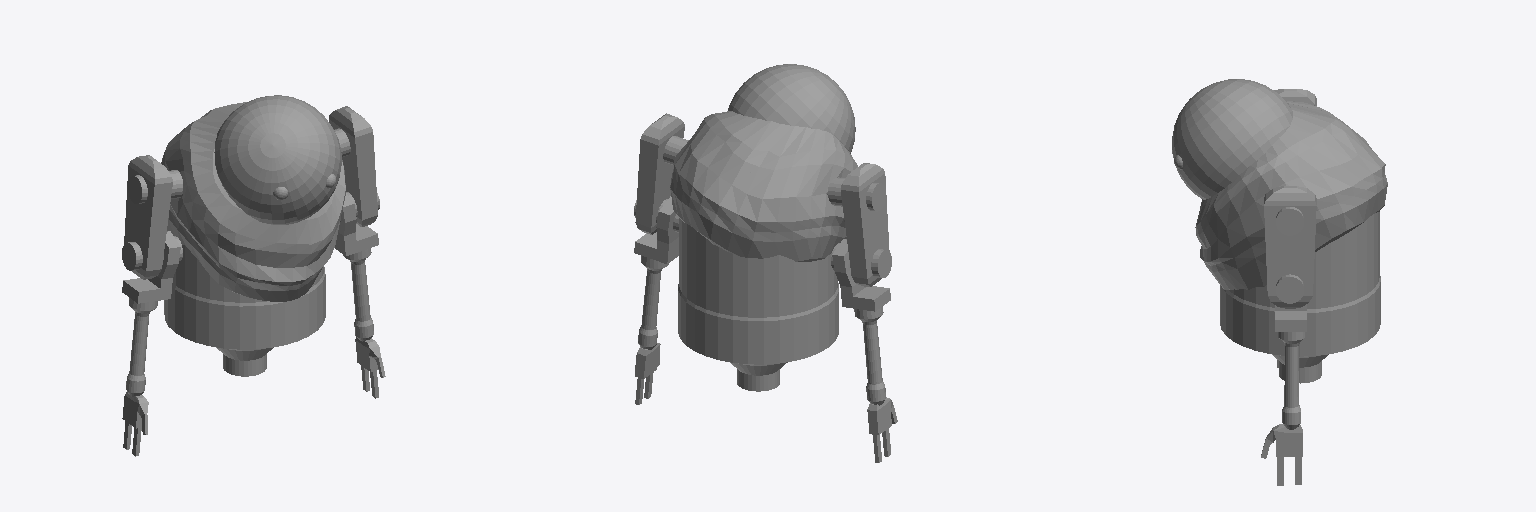
The model's file is Player.obj.
3 views of the same model, side by side, from view 1: azimuth 30°, elevation 25°; view 2: azimuth 150°, elevation 25°; view 3: azimuth 270°, elevation 25° (orthographic).
Visible parts, largest first — view 1: Sphere, Cylinder.002; view 2: Sphere, Cylinder.002; view 3: Sphere, Cylinder.002.
Boxes of the visible parts, x1=… form: Sphere: x1=122, y1=95, x2=385, y2=456; Cylinder.002: x1=161, y1=102, x2=345, y2=301; Sphere: x1=634, y1=64, x2=897, y2=462; Cylinder.002: x1=670, y1=111, x2=857, y2=261; Sphere: x1=1172, y1=79, x2=1380, y2=485; Cylinder.002: x1=1195, y1=101, x2=1387, y2=289.
Bounding box in the file's own units: 1.09 × 1.44 × 0.8276.